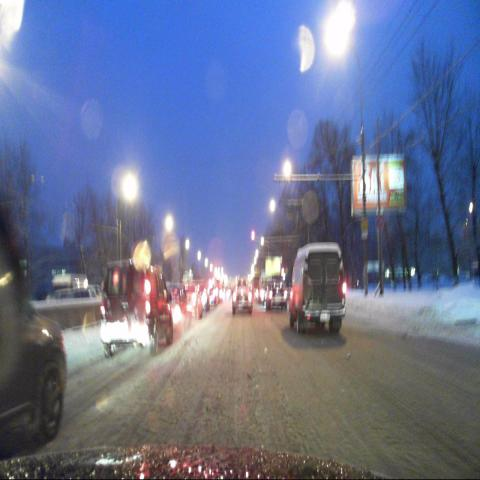3_27: (374, 214, 384, 232)
